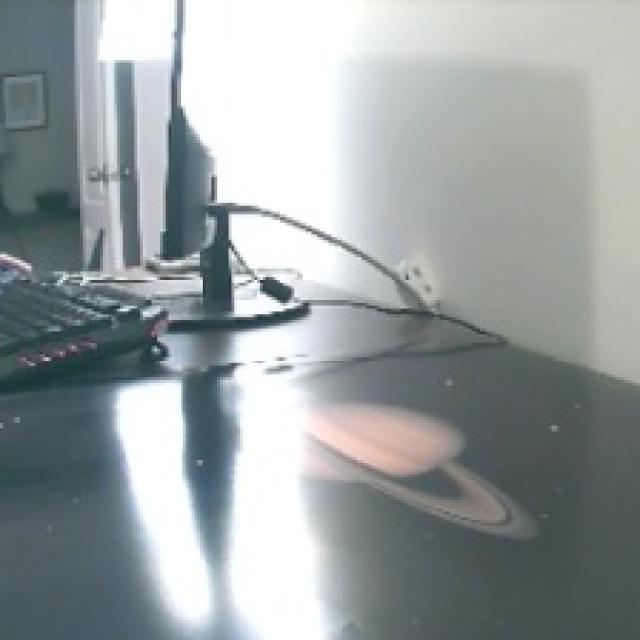Saturn: (250, 378, 539, 549)
